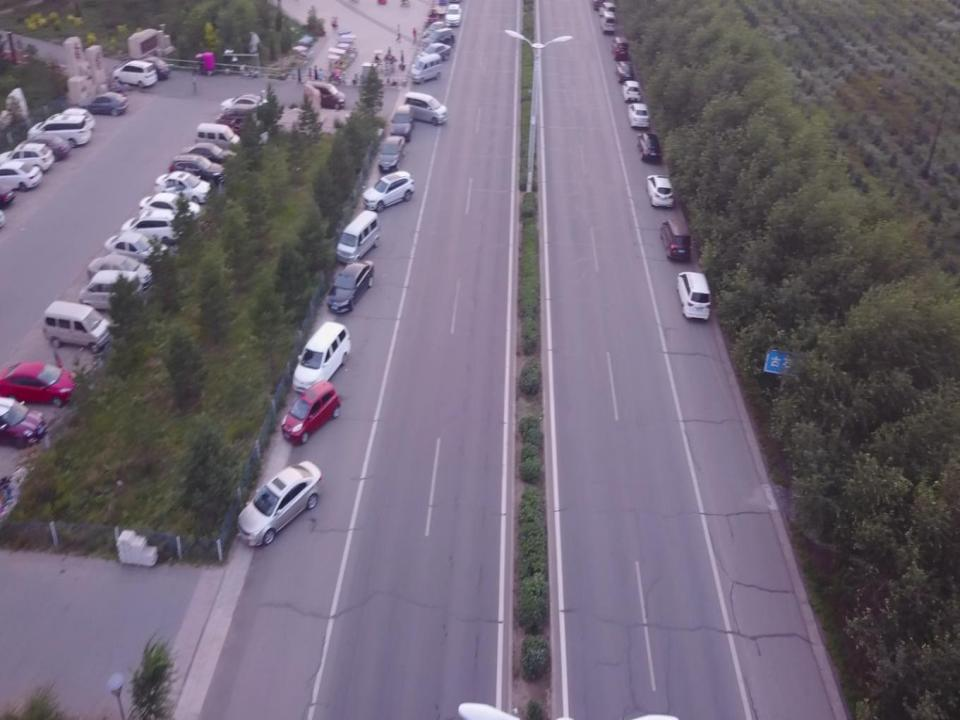car: (236, 460, 322, 547), (280, 378, 340, 443), (43, 301, 112, 352), (0, 362, 76, 406), (79, 270, 143, 314), (324, 258, 376, 312), (86, 253, 153, 291), (103, 232, 168, 269), (121, 211, 183, 248), (139, 191, 201, 227), (27, 114, 90, 149), (363, 170, 415, 211), (168, 154, 226, 190), (152, 172, 212, 204), (678, 271, 712, 320), (403, 91, 448, 125), (18, 134, 72, 162), (0, 144, 54, 172), (182, 141, 234, 168), (220, 93, 272, 119), (0, 160, 41, 192), (78, 92, 130, 117), (112, 60, 158, 88), (661, 219, 691, 261), (47, 106, 95, 131), (378, 135, 406, 171), (646, 174, 674, 207), (390, 104, 414, 142), (134, 56, 170, 80), (415, 42, 452, 63), (422, 27, 455, 50), (637, 133, 661, 160), (628, 103, 650, 128), (424, 20, 450, 40), (616, 60, 634, 84), (444, 3, 462, 26), (622, 81, 641, 101), (599, 3, 616, 15)
van: (292, 321, 351, 392), (336, 209, 380, 263), (195, 122, 241, 152), (306, 80, 346, 110), (411, 52, 442, 84), (612, 37, 629, 60), (600, 11, 617, 32)
